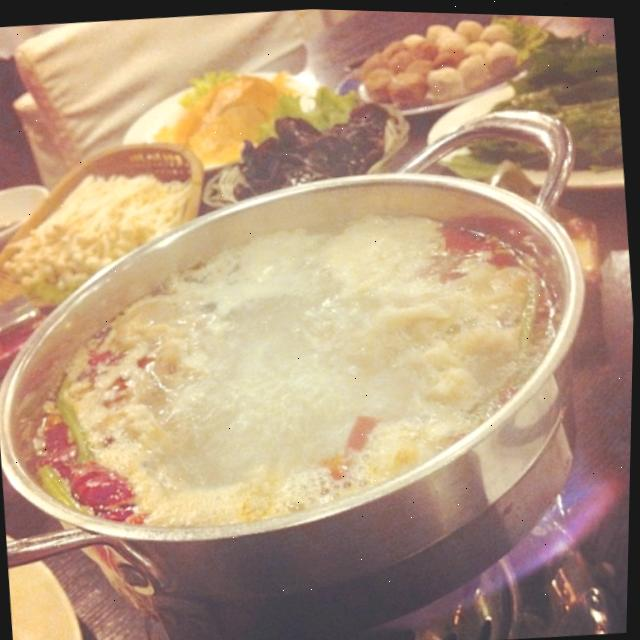汤锅炖物: (0, 21, 635, 640)
